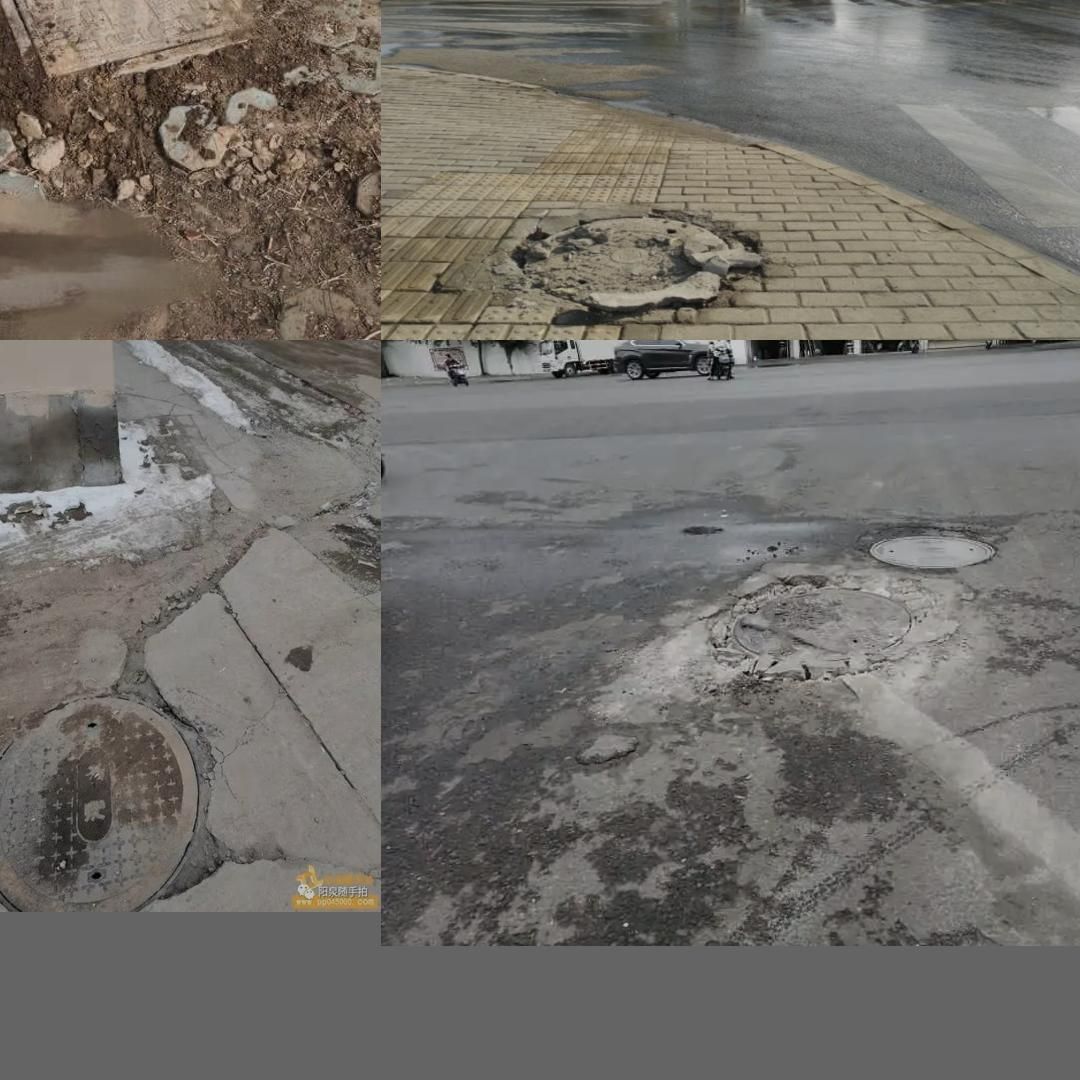circle: (0, 677, 267, 906), (643, 564, 952, 733), (482, 197, 763, 316), (0, 0, 279, 113)
